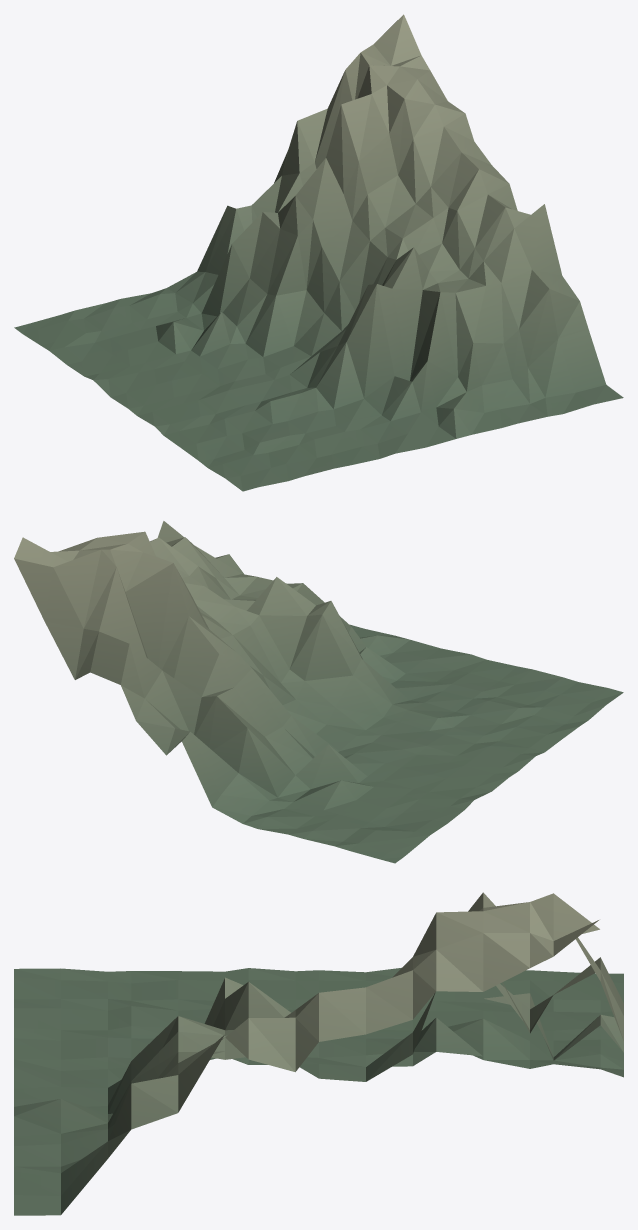
File: tile_1_3.glb
The picture shows the model from 3 angles, top to bottom: view 1: azimuth 30°, elevation 25°; view 2: azimuth 150°, elevation 25°; view 3: azimuth 270°, elevation 25°; orthographic projection. The views are drawn at different scales.
Parts seen in each view (by area): view 1: geometry_0; view 2: geometry_0; view 3: geometry_0.
Boxes of the visible parts, x1,y1,x2,y2 form: geometry_0: (14,14,623,491); geometry_0: (14,521,623,863); geometry_0: (14,892,623,1215).
Size of the model in its own units: 123 by 69.83 by 127.
